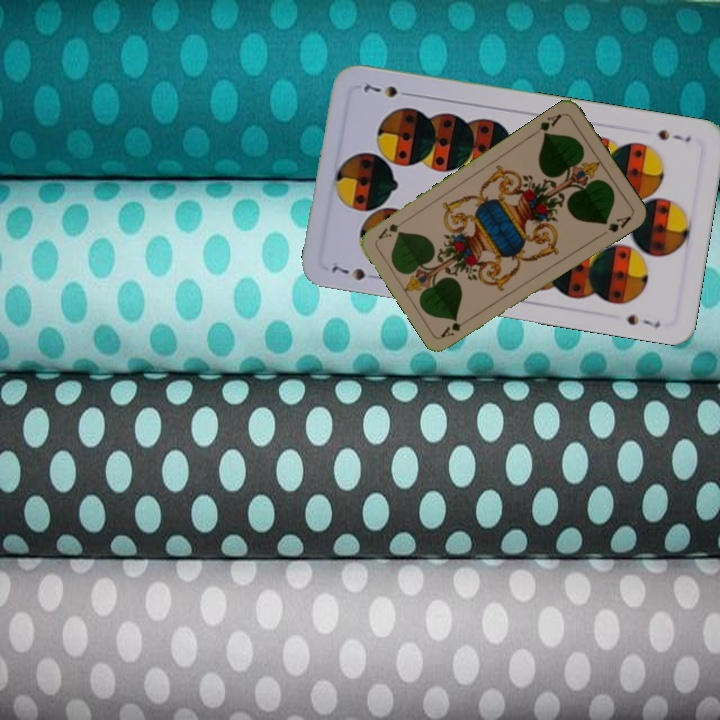GA: (437, 313, 474, 340), (535, 110, 564, 139)
S7: (327, 260, 383, 283), (654, 125, 694, 145)
